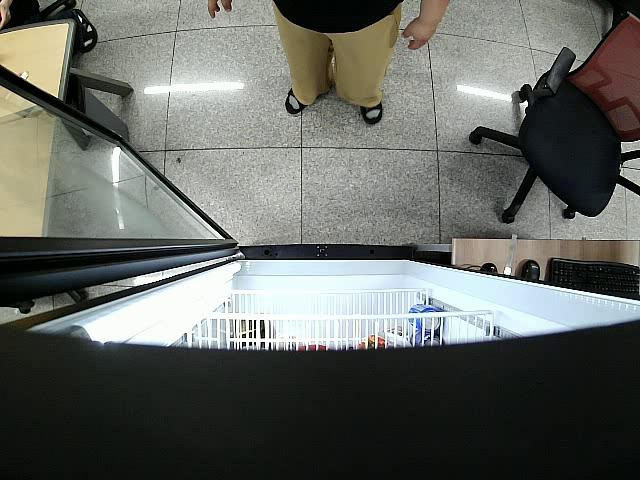00_hand: (401, 17, 437, 51), (205, 0, 236, 20)
